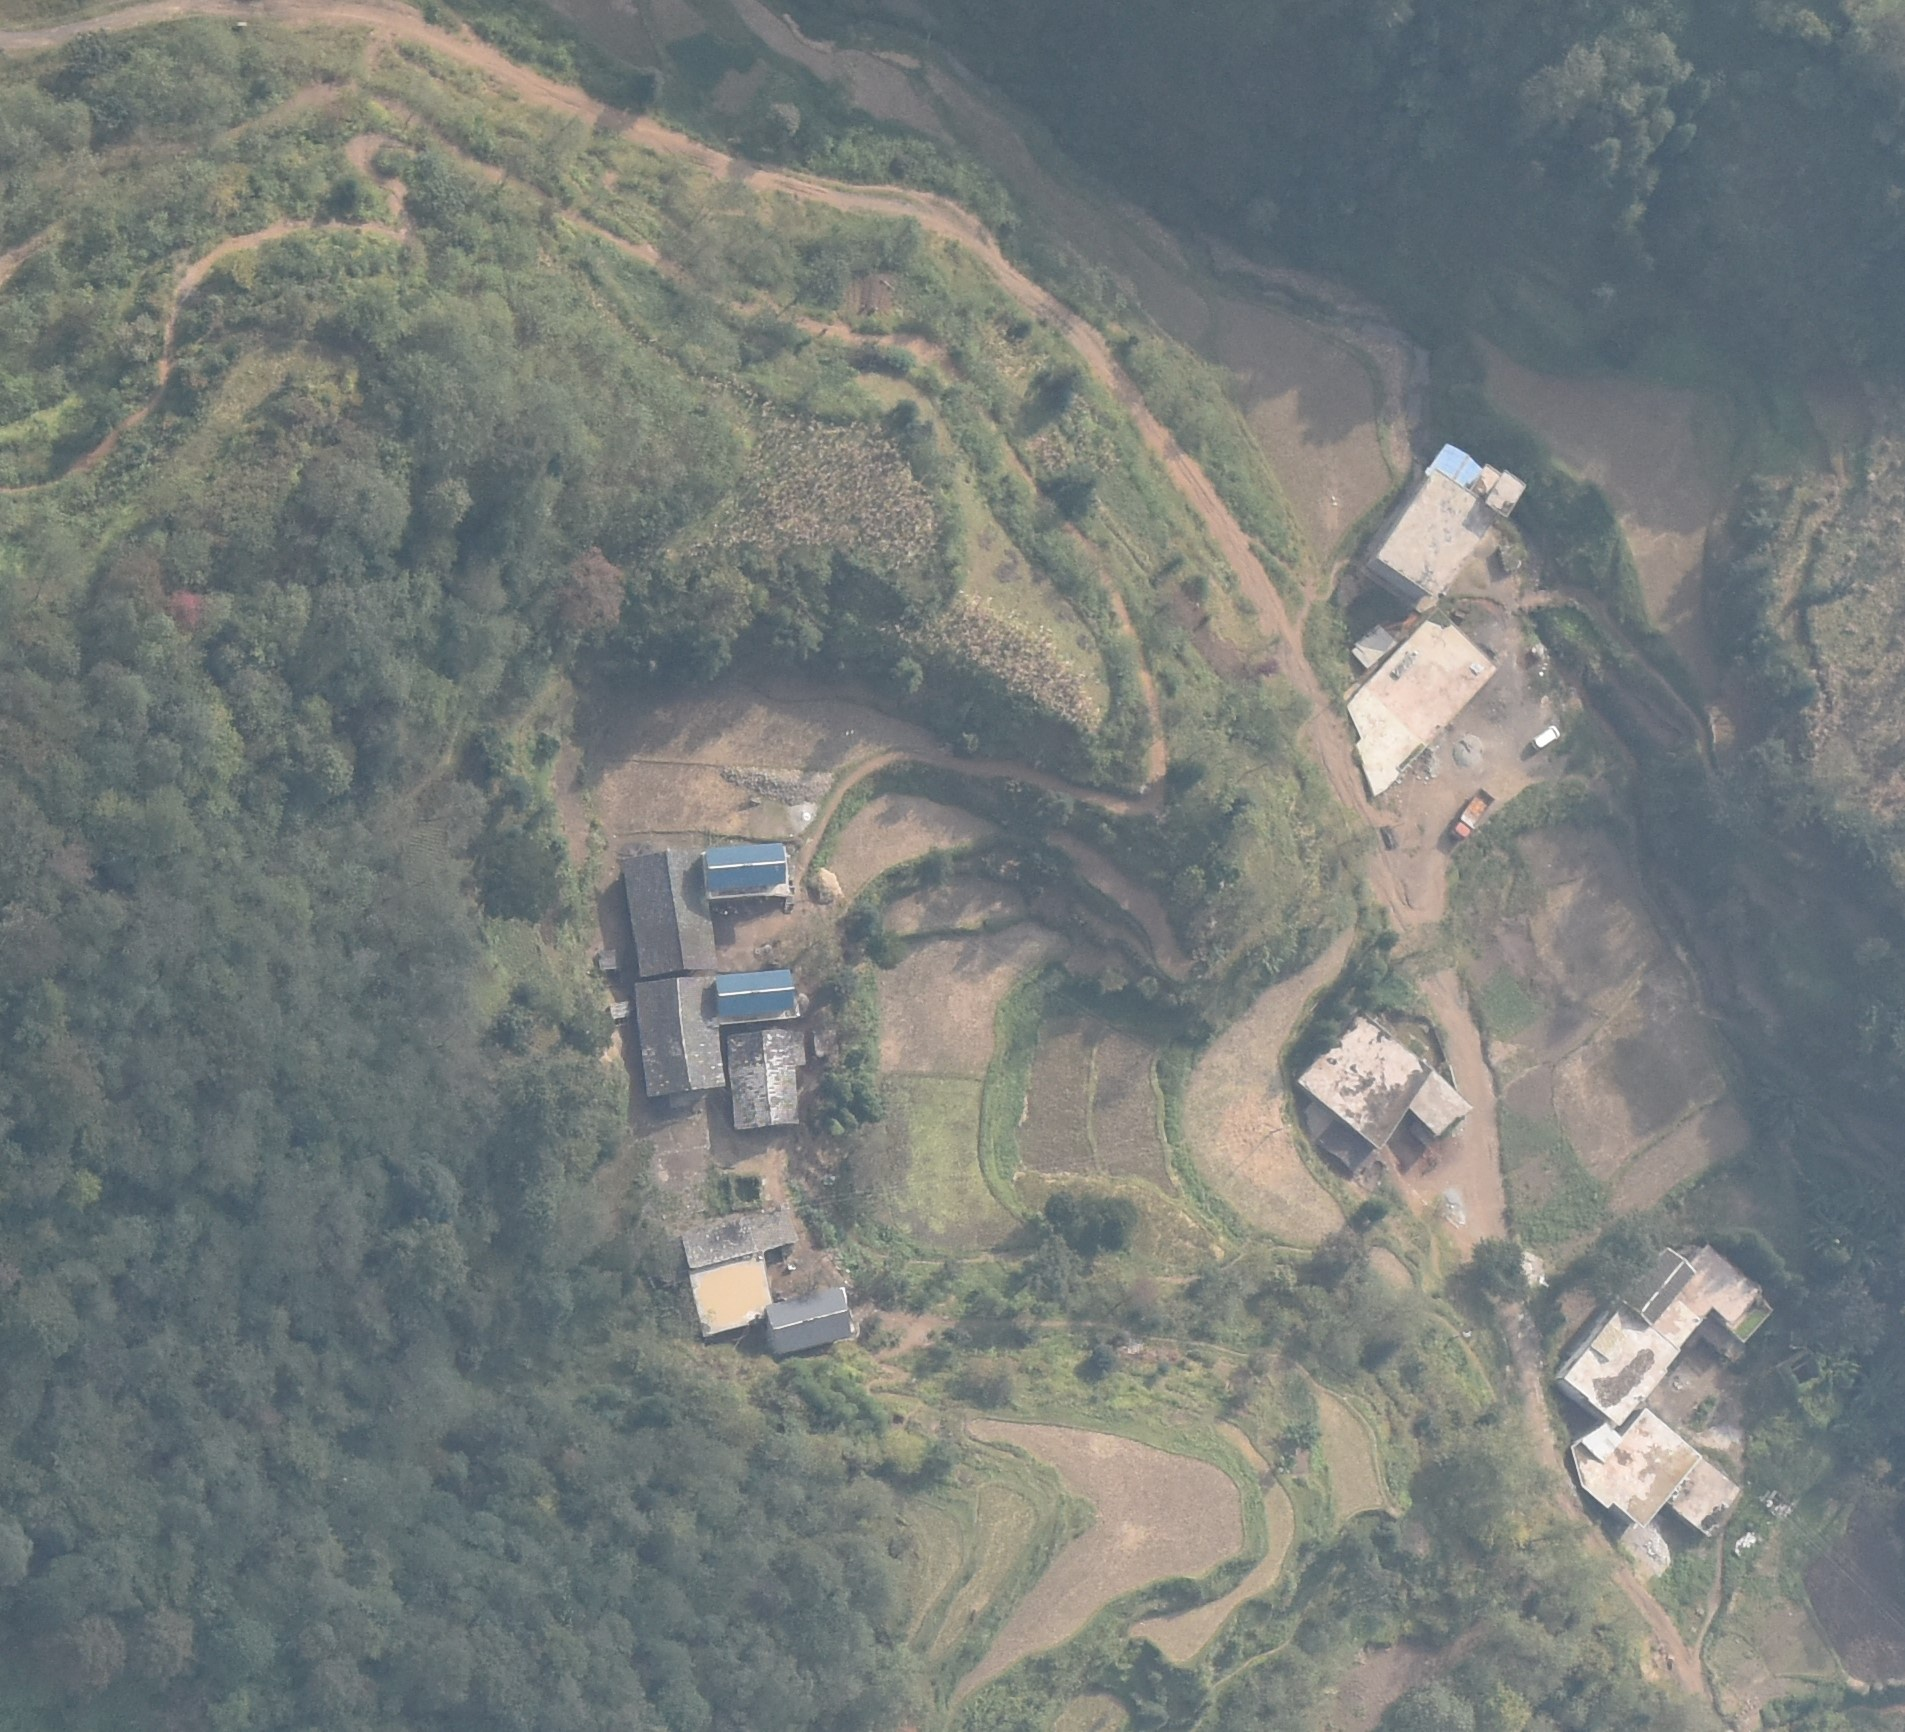building: (1347, 611, 1496, 799), (1297, 1007, 1435, 1149), (1359, 469, 1497, 610), (1570, 1407, 1704, 1528), (620, 849, 716, 976), (634, 977, 726, 1094), (680, 1204, 799, 1269), (725, 1027, 799, 1130), (688, 1259, 773, 1338), (764, 1286, 851, 1354), (1668, 1458, 1743, 1534), (704, 845, 791, 899), (712, 968, 798, 1020), (1408, 1069, 1474, 1136), (1471, 463, 1525, 515), (1351, 622, 1397, 665)
prefabricated-house: (1425, 441, 1481, 489)
vehicle: (1620, 1241, 1774, 1353), (1551, 1300, 1680, 1426), (1451, 784, 1493, 839), (1529, 724, 1560, 750)
